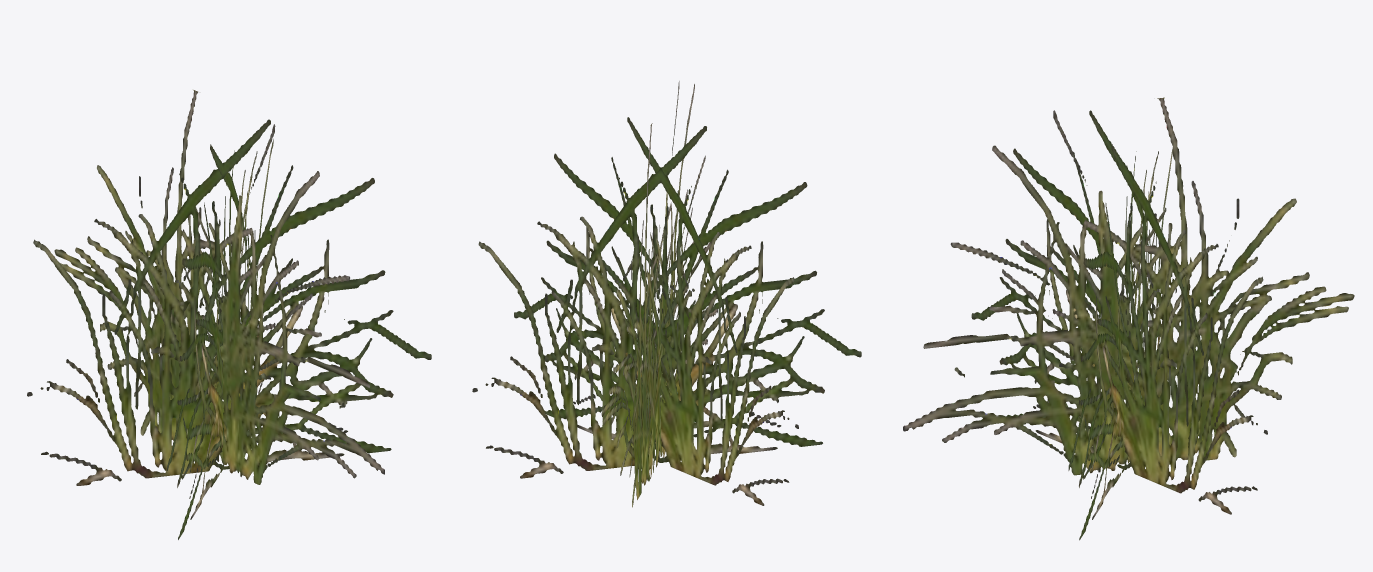
Rendered from grass_b.glb.
The picture shows the model from 3 angles, left to right: view 1: azimuth 30°, elevation 25°; view 2: azimuth 150°, elevation 25°; view 3: azimuth 270°, elevation 25°; orthographic projection. The views are drawn at different scales.
Parts seen in each view (by area): view 1: grass_b; view 2: grass_b; view 3: grass_b.
Part boxes in pixels (bbox=[...]): grass_b: bbox=[27, 90, 431, 539]; grass_b: bbox=[472, 81, 861, 507]; grass_b: bbox=[903, 97, 1354, 540].
Size of the model in its own units: 0.391 by 0.38 by 0.4385.
Materials: 1 (1 with a texture image).
